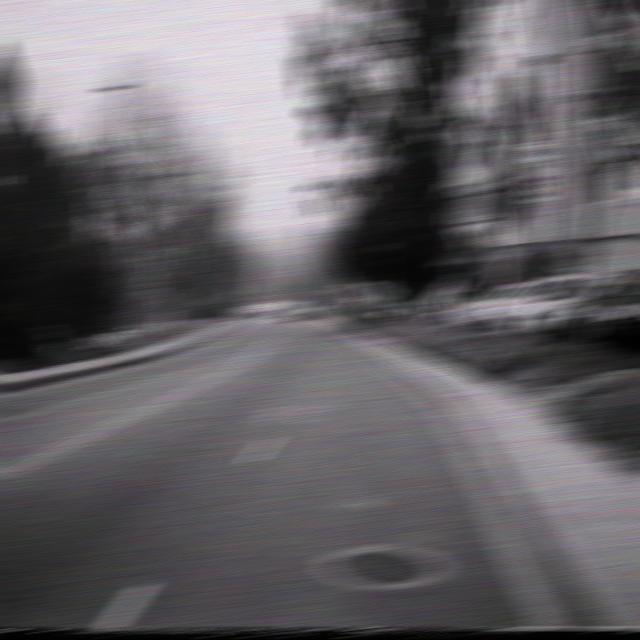speedLimit35: (518, 142, 556, 204)
